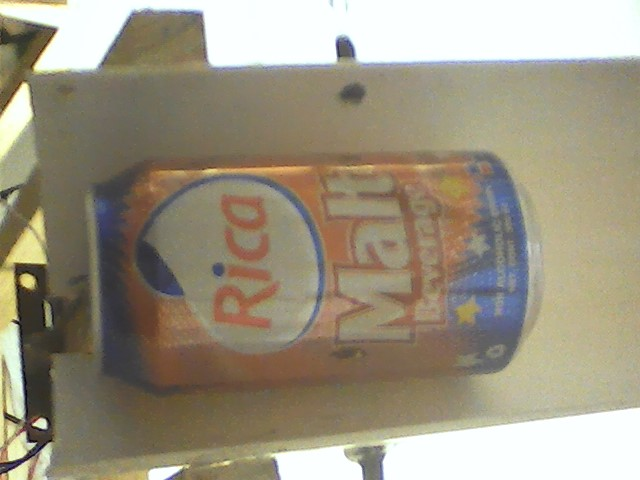lata: (79, 146, 555, 404)
